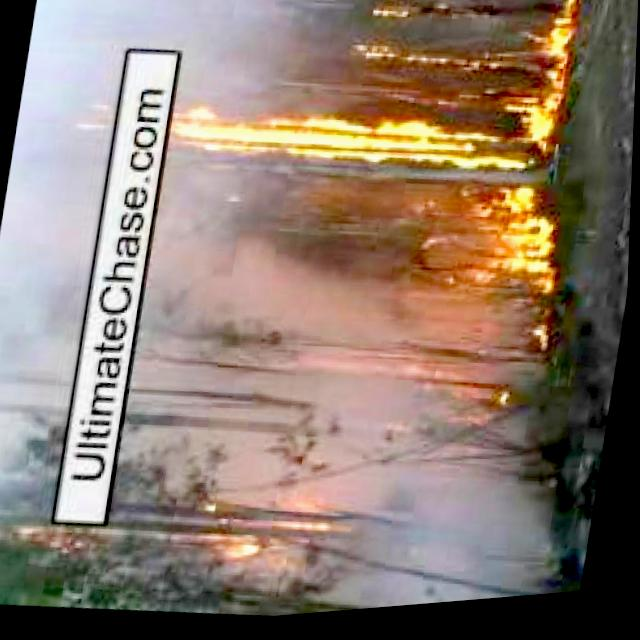helmet: (163, 55, 570, 198), (460, 184, 565, 328), (392, 363, 522, 425), (199, 503, 292, 574), (519, 0, 588, 81)
no_helmet: (118, 141, 404, 555), (0, 67, 116, 521), (366, 432, 588, 615), (28, 0, 377, 86)
